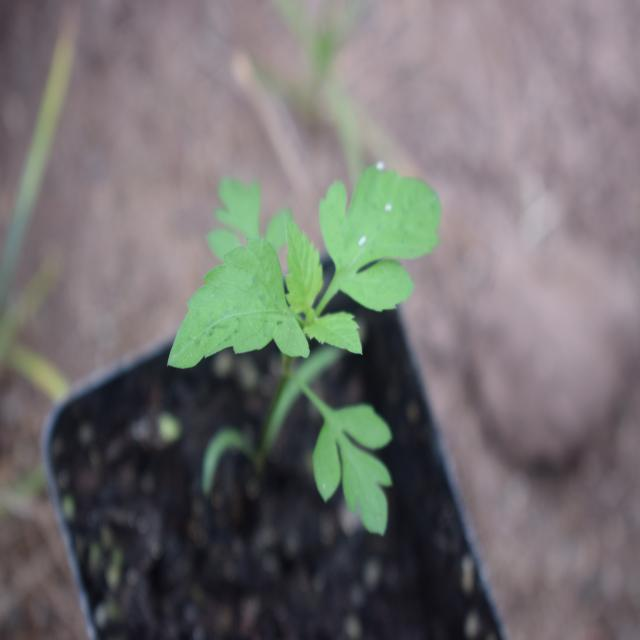Bidens pilosa: (167, 133, 450, 534)
